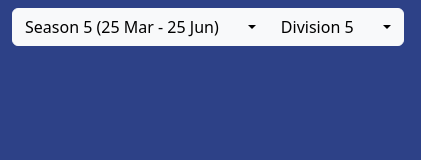
Test case: DivisionControls › interactivity › common › can open season drop down
Click the 1st button with class "dropdown-toggle" at point(250, 27), box [231, 8, 269, 46]
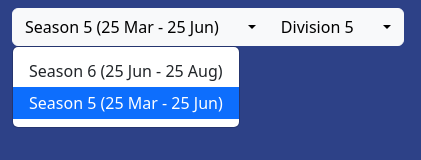
Expected: the menu with class "dropdown-menu" is shown, [12, 46, 240, 128]
